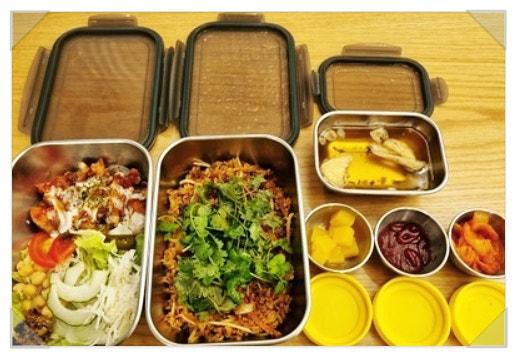Lunch Box: (145, 13, 312, 344), (12, 14, 173, 345), (313, 44, 447, 194), (373, 207, 450, 345), (304, 204, 373, 345), (449, 208, 505, 345)
